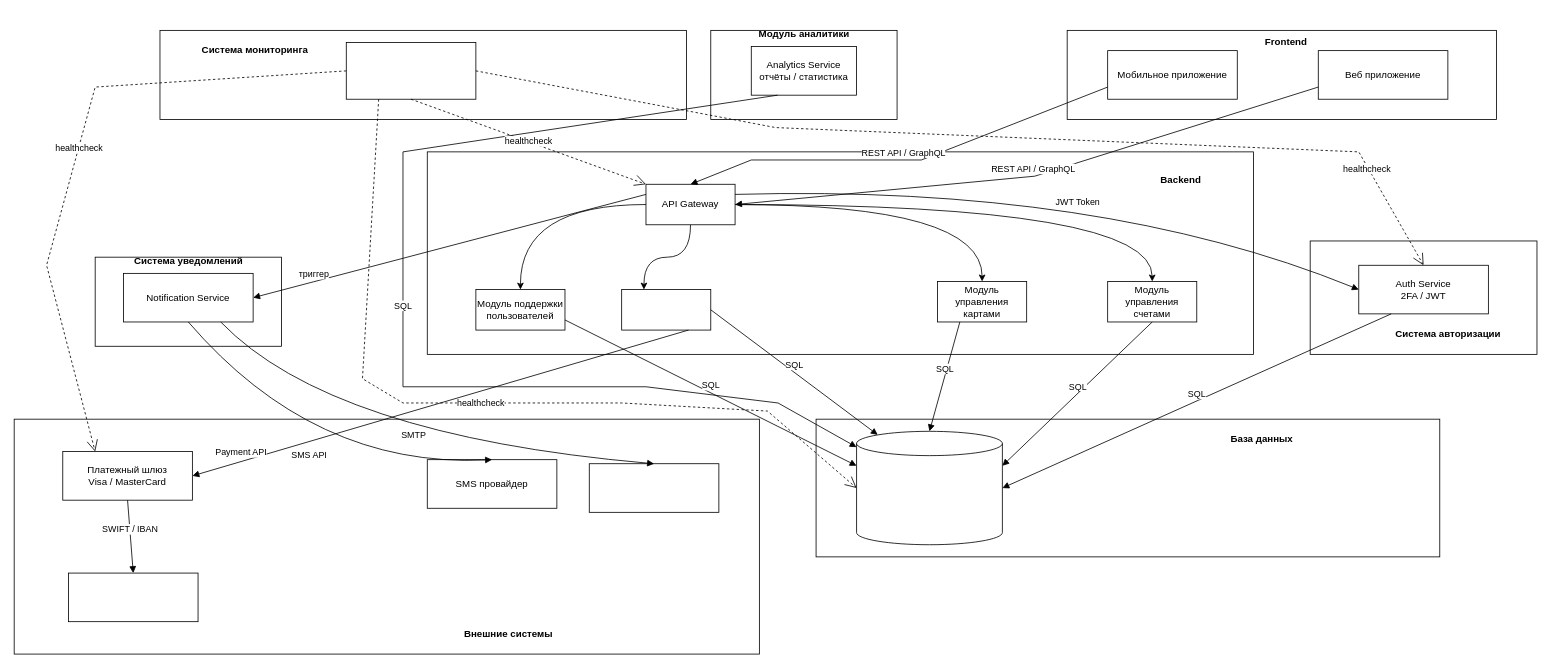
This 1551x668 diagram has some shape labels left out. Here are the shapes that lost their labels. From the top down, the box of each, then its label:
(345, 42, 476, 99): Monitoring Service доступность / метрики
(621, 289, 711, 330): Модуль переводов
(588, 463, 719, 512): Email провайдер
(856, 431, 1002, 545): Основная БД Клиенты / счета / транзакции / карты
(68, 572, 198, 622): Внешние банки SWIFT / IBAN
